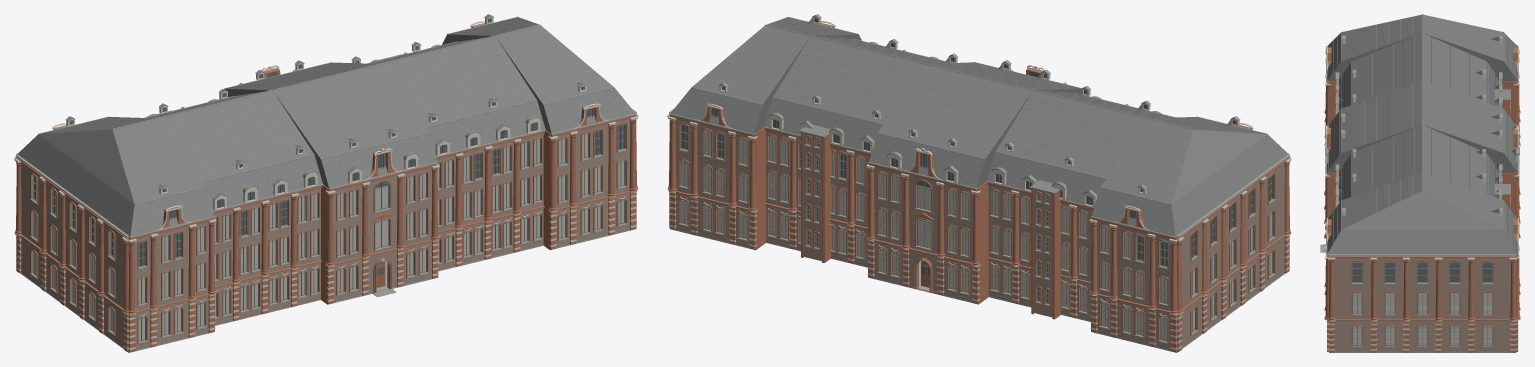
File: xuhui-chongsi-building-raw.glb
The picture shows the model from 3 angles, left to right: view 1: azimuth 30°, elevation 25°; view 2: azimuth 150°, elevation 25°; view 3: azimuth 270°, elevation 25°; orthographic projection. The views are drawn at different scales.
Visible parts, largest first — view 1: 徐汇公学崇思楼（修复后南北立面与孟莎屋顶）; view 2: 徐汇公学崇思楼（修复后南北立面与孟莎屋顶）; view 3: 徐汇公学崇思楼（修复后南北立面与孟莎屋顶）.
Boxes of the visible parts, <box> form: 徐汇公学崇思楼（修复后南北立面与孟莎屋顶）: <box>14,14,638,352</box>; 徐汇公学崇思楼（修复后南北立面与孟莎屋顶）: <box>667,14,1291,352</box>; 徐汇公学崇思楼（修复后南北立面与孟莎屋顶）: <box>1320,14,1520,352</box>.
Bounding box in the file's own units: 67.24 × 21.73 × 26.89.
